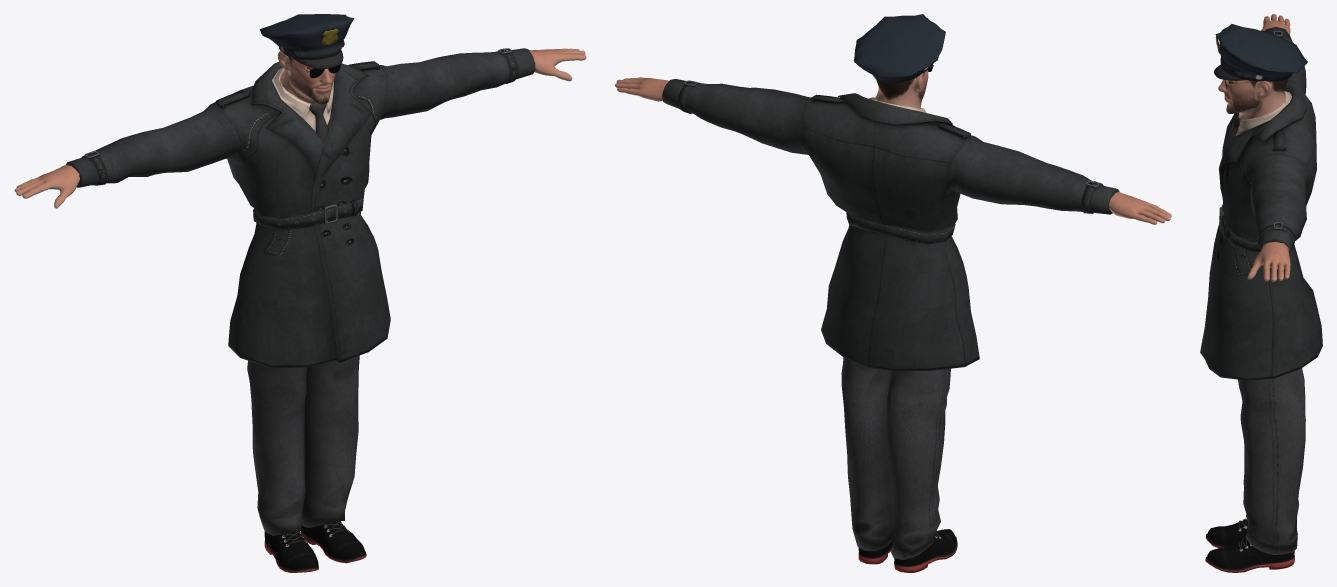
Rendered from mian_character_true.obj.
3 renders of one model, left to right at view 1: azimuth 30°, elevation 25°; view 2: azimuth 150°, elevation 25°; view 3: azimuth 270°, elevation 25°, orthographic. The views are drawn at different scales.
Visible parts, largest first — view 1: Tops, Bottoms, Body, Hats, Shoes; view 2: Tops, Bottoms, Hats, Body, Shoes; view 3: Tops, Bottoms, Hats, Body, Shoes.
Part boxes in pixels (x1,y1,x2,y2): Tops: (66,48,535,368); Bottoms: (247,355,359,535); Body: (14,48,586,208); Hats: (259,14,354,69); Shoes: (264,521,366,572); Tops: (662,79,1119,371); Bottoms: (841,357,950,559); Hats: (854,14,945,83); Body: (615,70,1171,224); Shoes: (858,529,957,572); Tops: (1200,27,1322,380); Bottoms: (1238,368,1305,554); Hats: (1214,24,1307,81); Body: (1218,14,1290,281); Shoes: (1205,518,1294,572).
Size of the model in its own units: 232 by 211 by 45.03.
6 materials, 6 textured.
